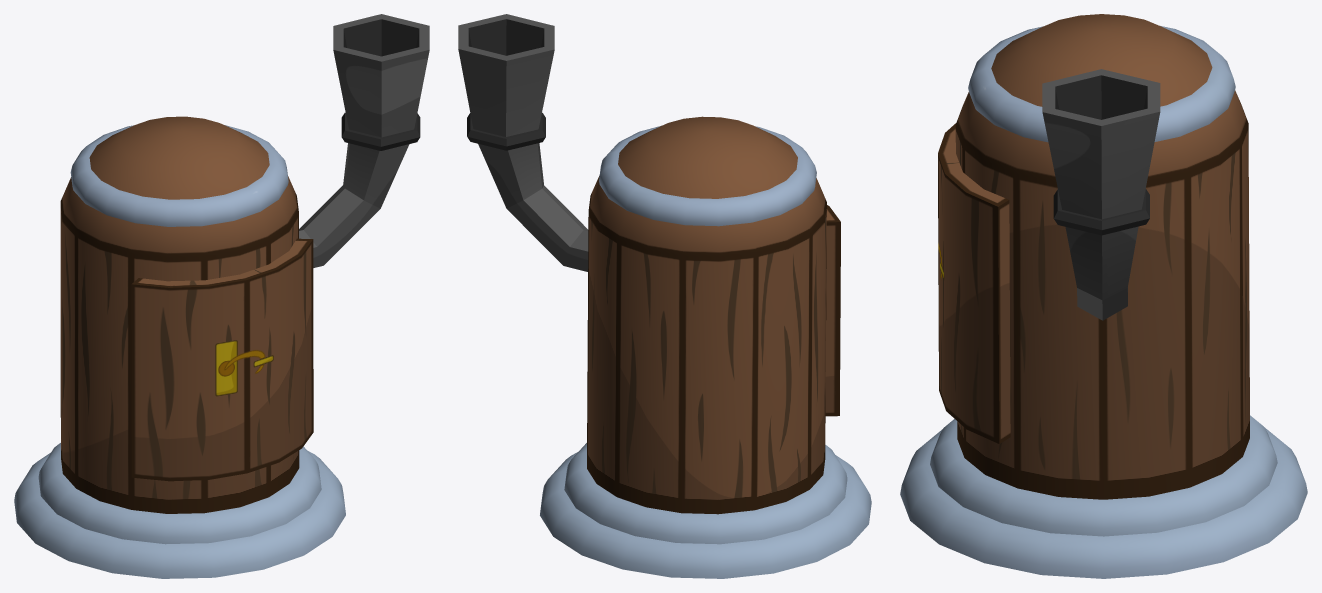
File: Asset_PilloShakeMachine.fbx
The picture shows the model from 3 angles, left to right: view 1: azimuth 30°, elevation 25°; view 2: azimuth 150°, elevation 25°; view 3: azimuth 270°, elevation 25°; orthographic projection. The views are drawn at different scales.
Visible parts, largest first — view 1: PilloShakeMachine; view 2: PilloShakeMachine; view 3: PilloShakeMachine.
Boxes of the visible parts, x1,y1,x2,y2 form: PilloShakeMachine: (14, 14, 429, 578); PilloShakeMachine: (458, 14, 871, 578); PilloShakeMachine: (900, 14, 1307, 578).
Bounding box in the file's own units: 2.14 × 2.2 × 1.57.
